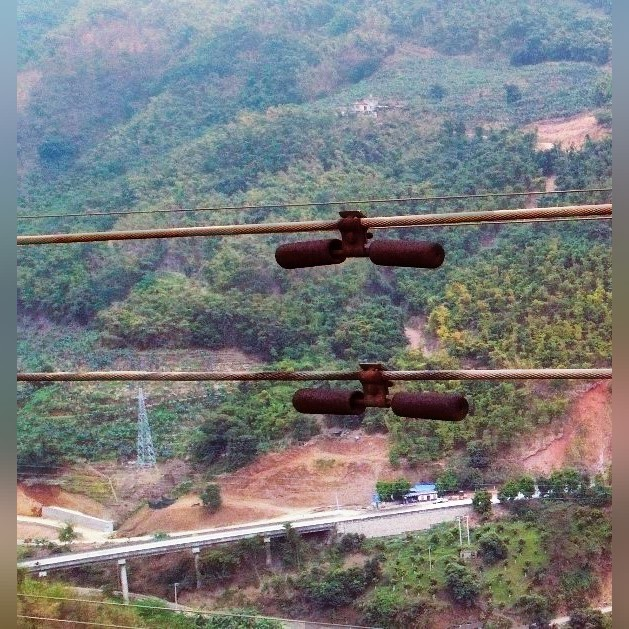Shockproof hammer: (265, 201, 453, 274), (288, 356, 470, 425)
